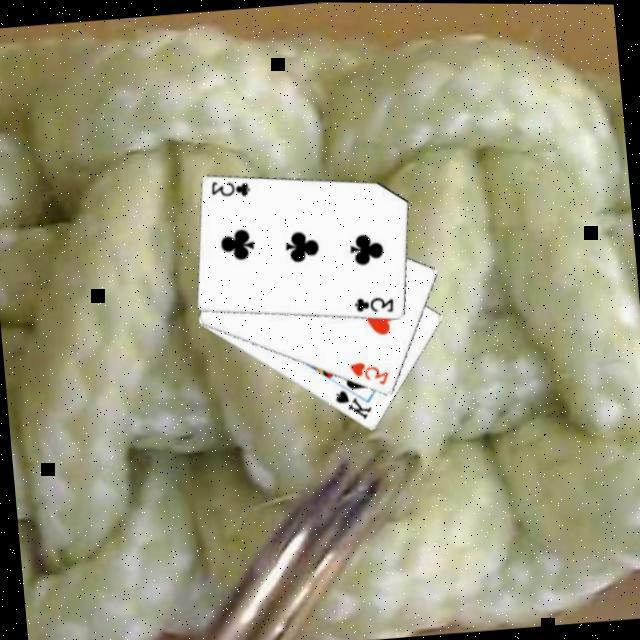3C: (351, 288, 398, 316), (207, 173, 254, 200)
3H: (346, 353, 394, 388)
KS: (331, 382, 376, 422)
